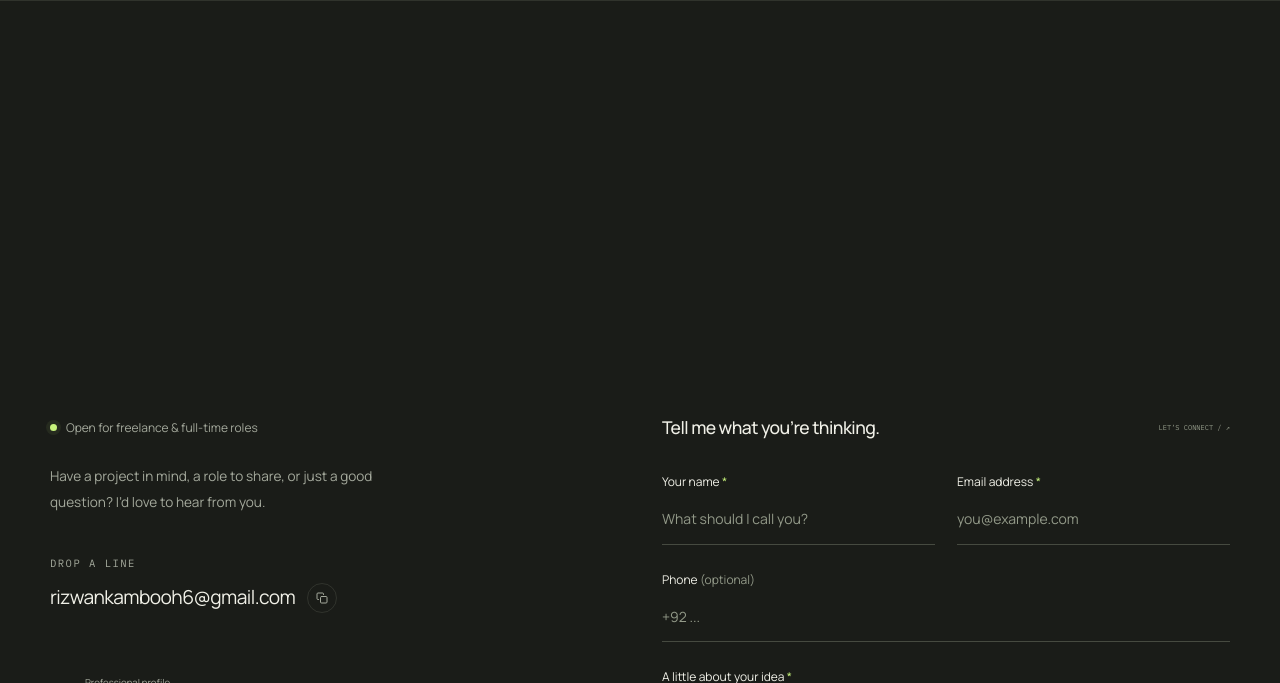
Test case: contact sends a message with an optional phone and clears the form on success
The width and height of the screenshot is (1280, 683).
Type "Rizwan" into the field labelled "Your name *". click: [798, 520]
box: left=662, top=495, right=935, bottom=545
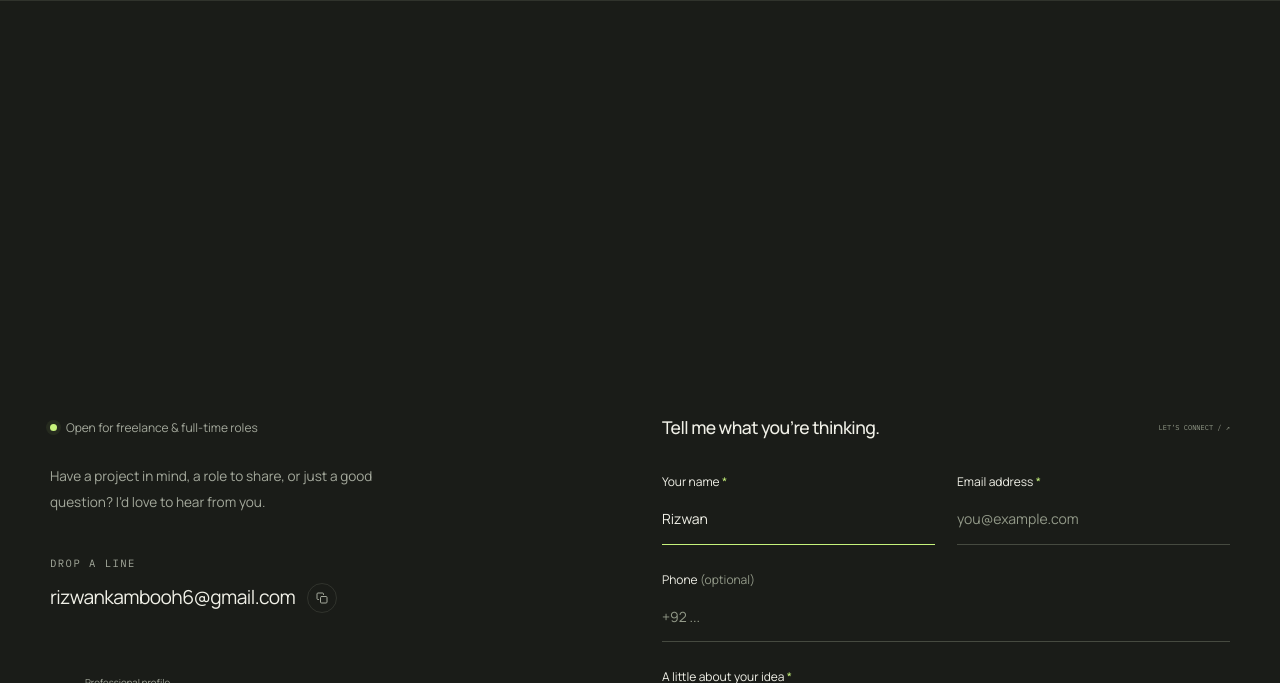
Type "hello@example.com" into the field labelled "Email address *". click: [1094, 520]
box: left=957, top=495, right=1230, bottom=545
(page scrolled)
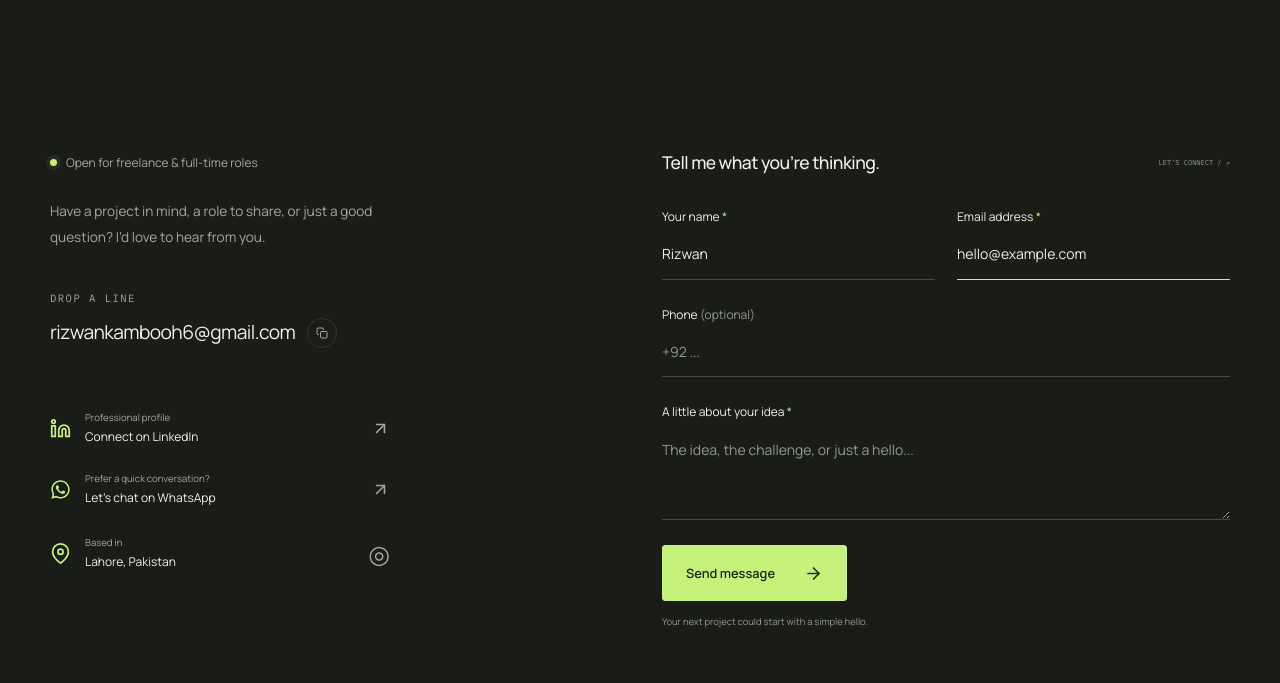
Type "A mobile application." into the text box labelled "A little about your idea *". click: [946, 473]
box: left=662, top=426, right=1230, bottom=520
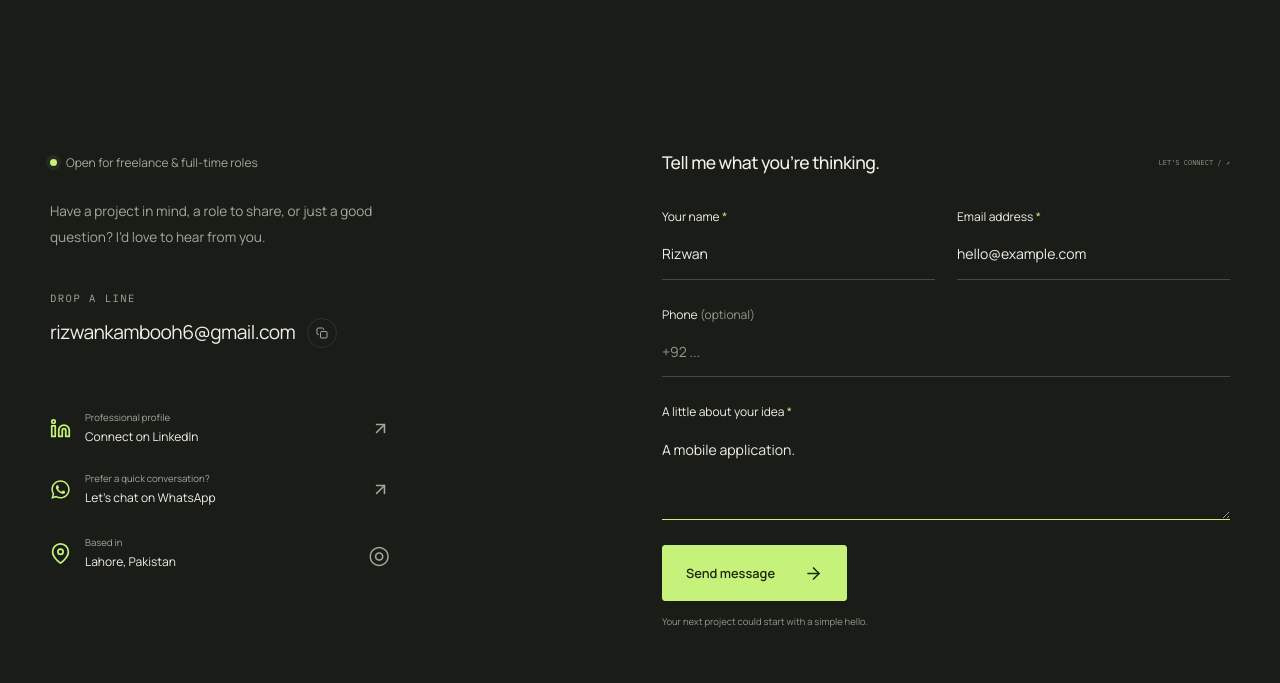
Click the button "Send message". click: [754, 573]
box: left=662, top=545, right=847, bottom=601
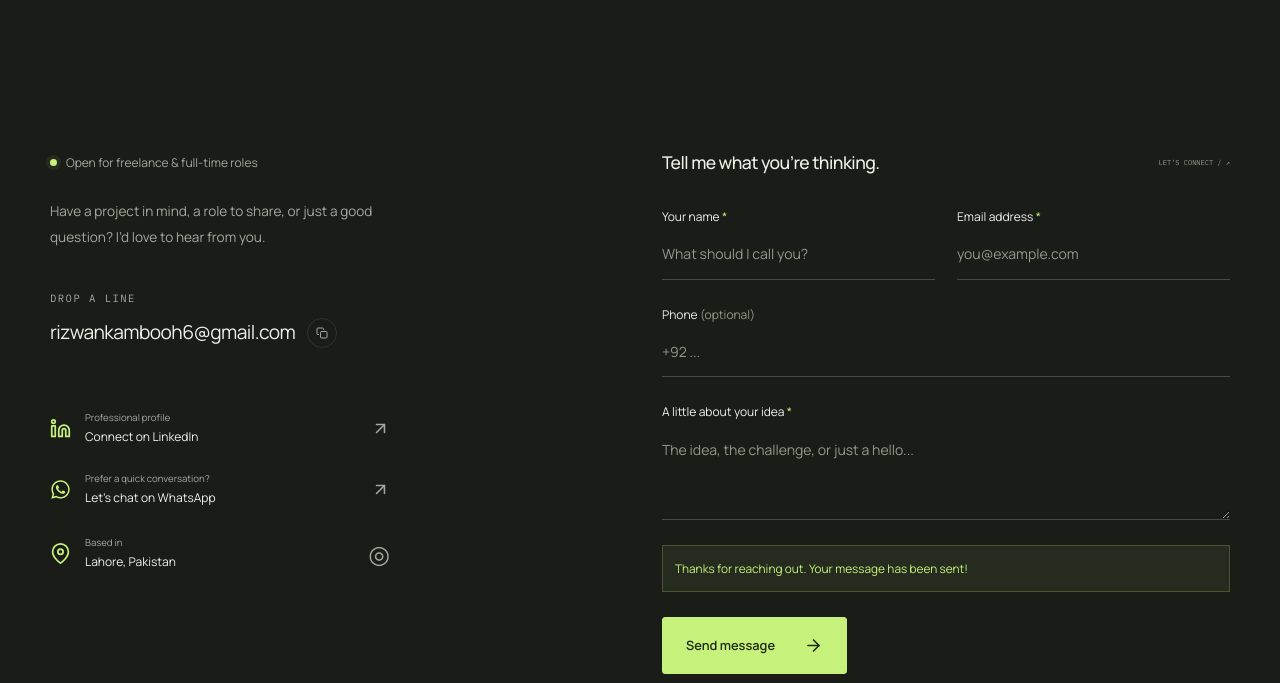
expect the text "Thanks for reaching out. Your message has been sent!" is shown: met, box left=662, top=545, right=1230, bottom=592
expect the field labelled "Your name *" is empty: met, box left=662, top=230, right=935, bottom=280
